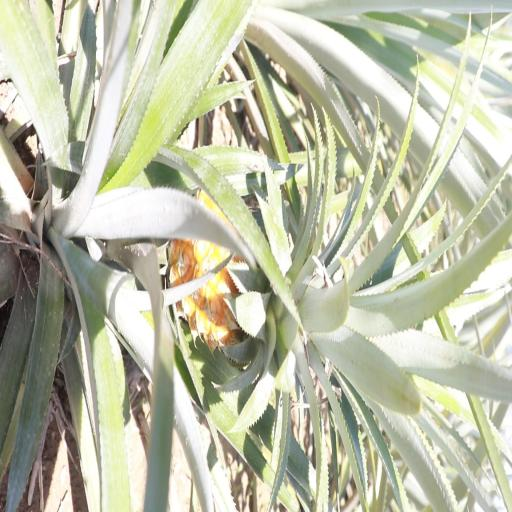Pineapple - v8 v1: (173, 178, 417, 370)
